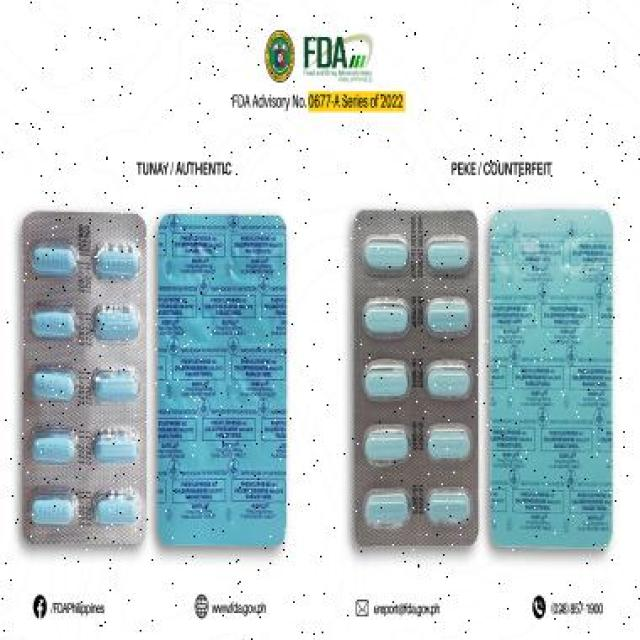Bioflu_Strip: (336, 204, 486, 559), (18, 199, 151, 551)
